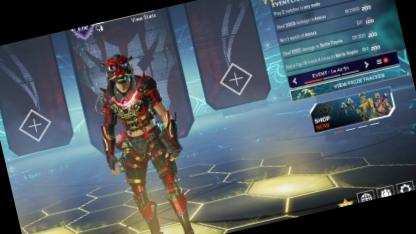Target: (76, 38, 214, 233)
